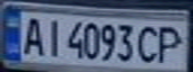0: (81, 19, 100, 61)
3: (115, 21, 139, 63)
4: (63, 18, 84, 60)
9: (97, 20, 118, 62)
A: (18, 14, 48, 56)
C: (136, 22, 163, 64)
I: (39, 16, 66, 58)
P: (154, 22, 190, 64)
